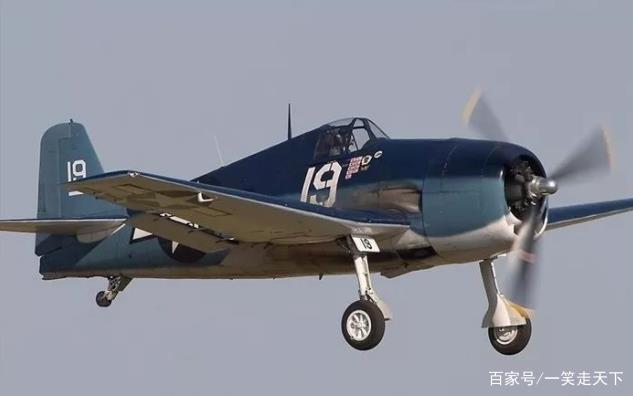airplane: (2, 92, 633, 357)
